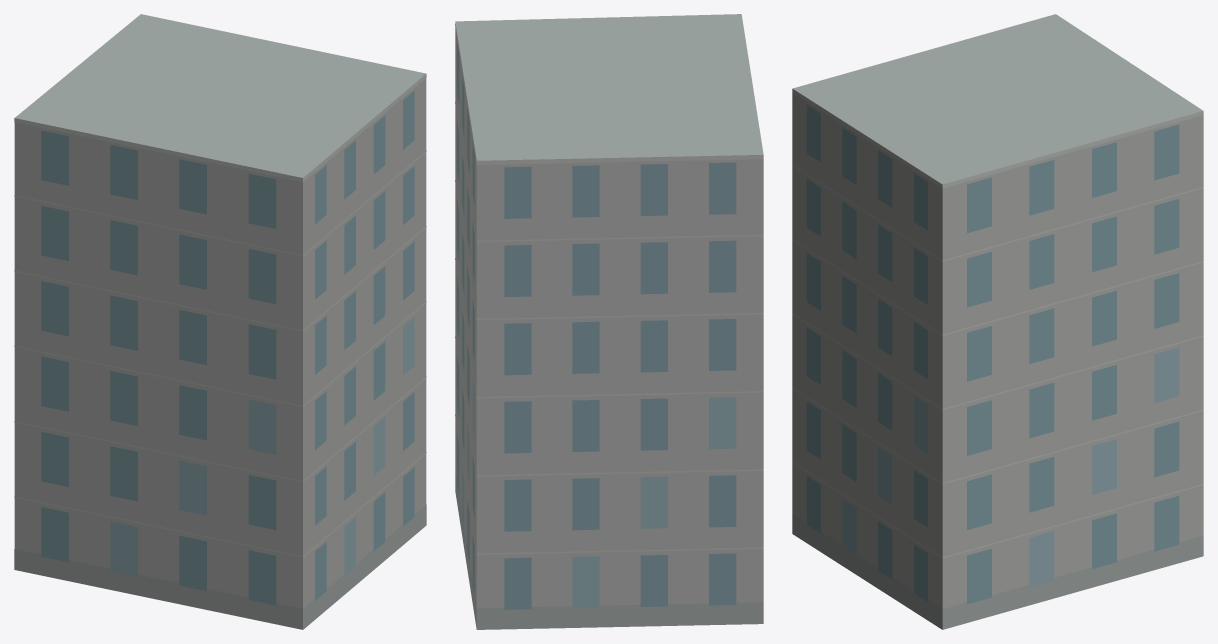
The model's file is survey-upis-32683178.glb.
3 views of the same model, side by side, from view 1: azimuth 30°, elevation 25°; view 2: azimuth 150°, elevation 25°; view 3: azimuth 270°, elevation 25° (orthographic). The views are drawn at different scales.
Parts seen in each view (by area): view 1: survey-upis-32683178.tmp; view 2: survey-upis-32683178.tmp; view 3: survey-upis-32683178.tmp.
Boxes of the visible parts, x1,y1,x2,y2 form: survey-upis-32683178.tmp: (14, 14, 426, 629); survey-upis-32683178.tmp: (455, 14, 763, 629); survey-upis-32683178.tmp: (792, 14, 1203, 629).
Size of the model in its own units: 21.46 by 26.11 by 21.87.
